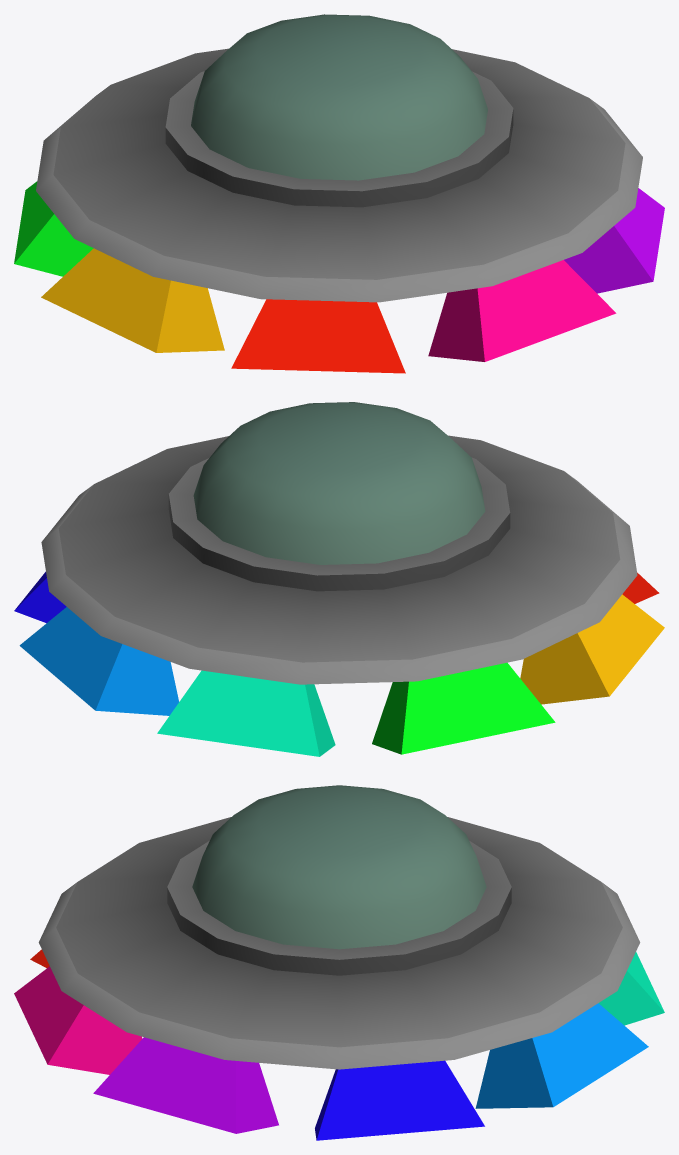
The model's file is space-spacecraft-flying-saucer_v1.fbx.
3 renders of one model, top to bottom at view 1: azimuth 30°, elevation 25°; view 2: azimuth 150°, elevation 25°; view 3: azimuth 270°, elevation 25°, orthographic.
Parts seen in each view (by area): view 1: Flying Saucer_v1; view 2: Flying Saucer_v1; view 3: Flying Saucer_v1.
Part boxes in pixels (<box>): Flying Saucer_v1: <box>14,14,664,373</box>; Flying Saucer_v1: <box>14,402,664,756</box>; Flying Saucer_v1: <box>14,785,664,1140</box>.
Size of the model in its own units: 15 by 5.75 by 15.
